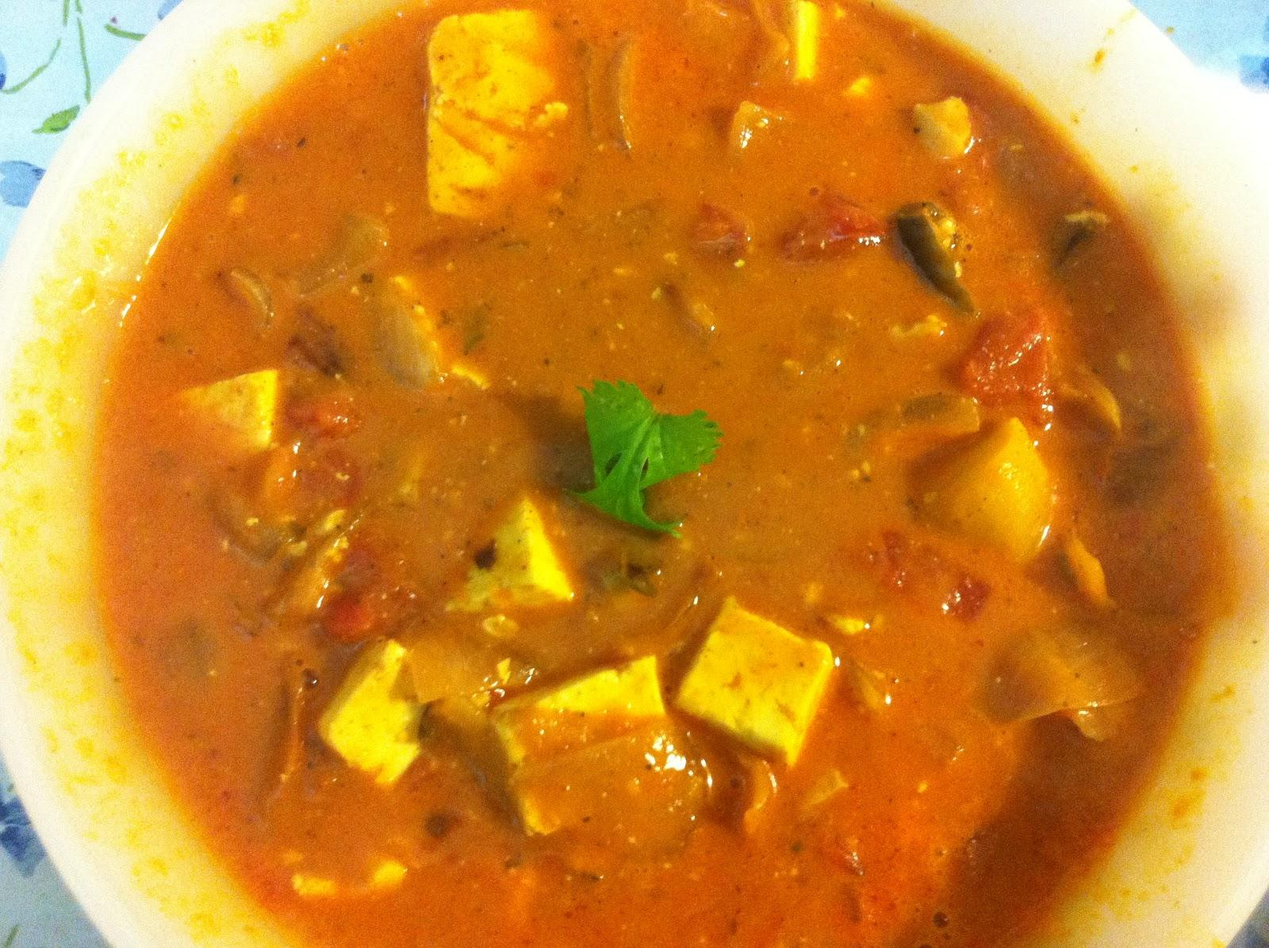ShahiPaneer: (94, 0, 1233, 947)
